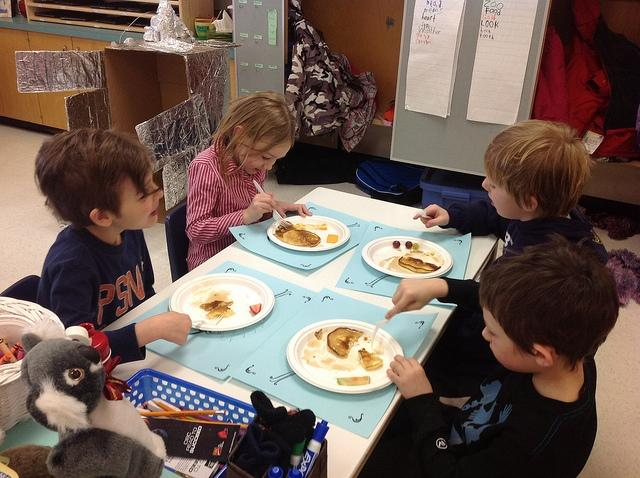grape: (392, 241, 400, 248), (406, 241, 412, 248), (412, 244, 418, 250)
